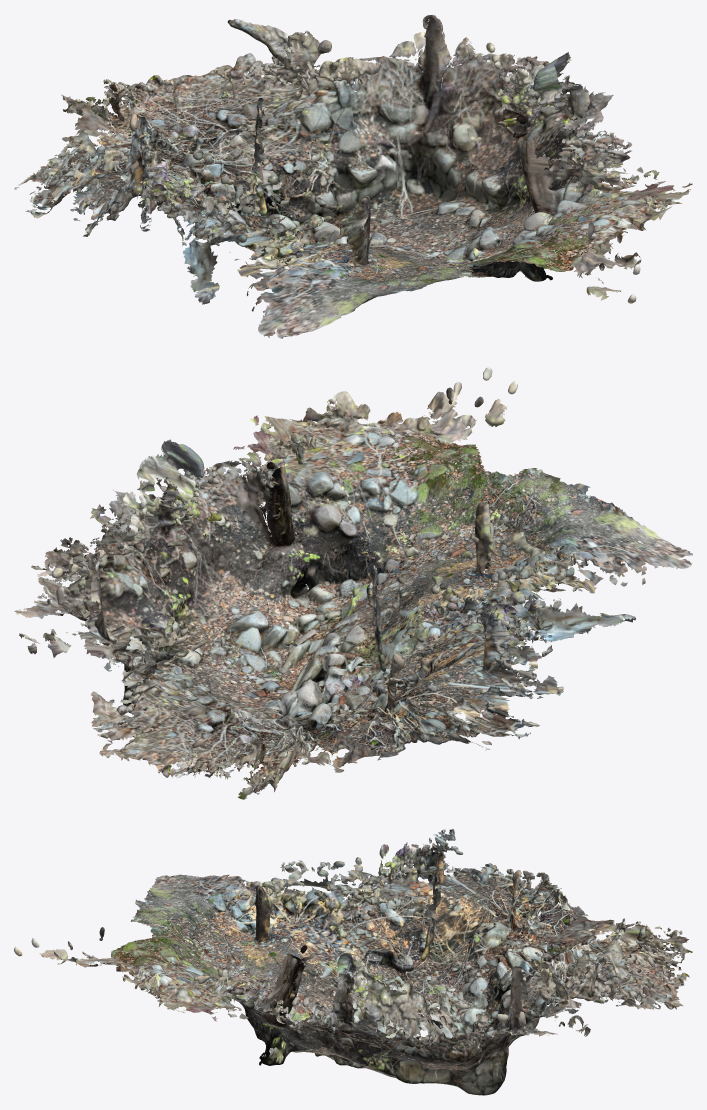
The model's file is abound_20261120-1522_cellar_14.glb.
The picture shows the model from 3 angles, top to bottom: view 1: azimuth 30°, elevation 25°; view 2: azimuth 150°, elevation 25°; view 3: azimuth 270°, elevation 25°; orthographic projection. The views are drawn at different scales.
Parts seen in each view (by area): view 1: Scene; view 2: Scene; view 3: Scene.
Part boxes in pixels (x1,y1,x2,y2): Scene: [14, 15, 692, 338]; Scene: [14, 367, 692, 799]; Scene: [14, 828, 692, 1095].
Bounding box in the file's own units: 8.05 × 3.03 × 11.32.
3 materials, 3 textured.
